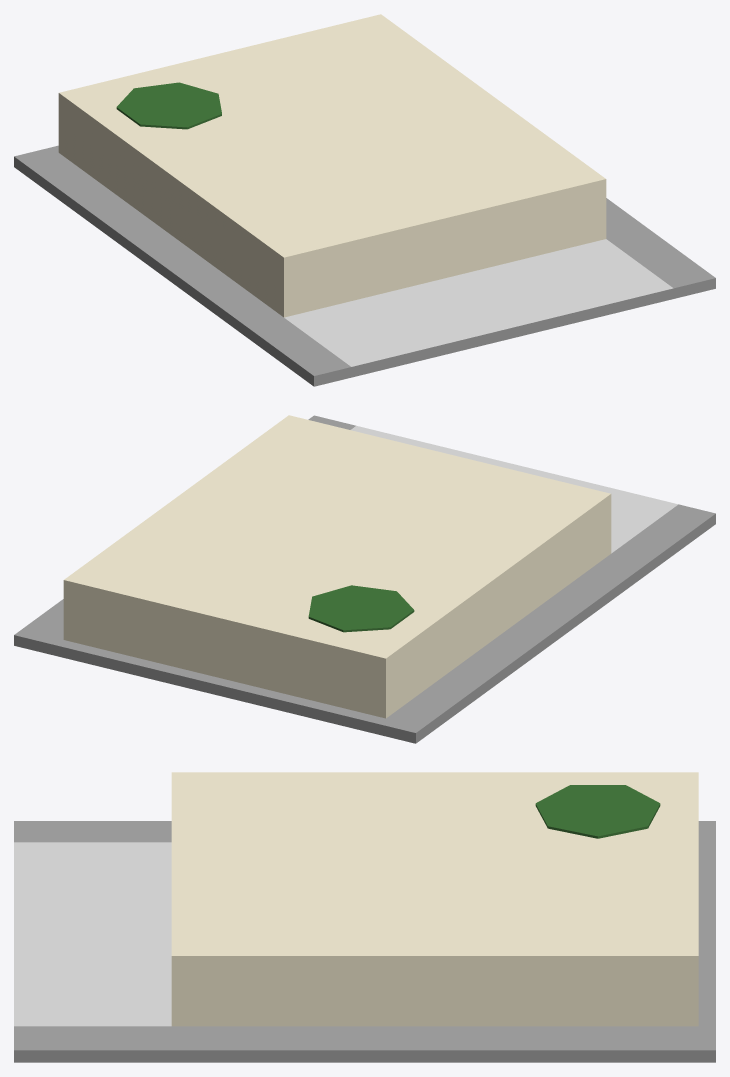
The model's file is Tofu.fbx.
3 views of the same model, one above another, from view 1: azimuth 30°, elevation 25°; view 2: azimuth 150°, elevation 25°; view 3: azimuth 270°, elevation 25° (orthographic). The views are drawn at different scales.
Visible parts, largest first — view 1: pCube3; view 2: pCube3; view 3: pCube3.
Boxes of the visible parts, left/top/right/bottom form: pCube3: left=14, top=14, right=715, bottom=386; pCube3: left=14, top=415, right=715, bottom=743; pCube3: left=14, top=772, right=715, bottom=1062.
Size of the model in its own units: 1.98 by 0.3428 by 2.57.
